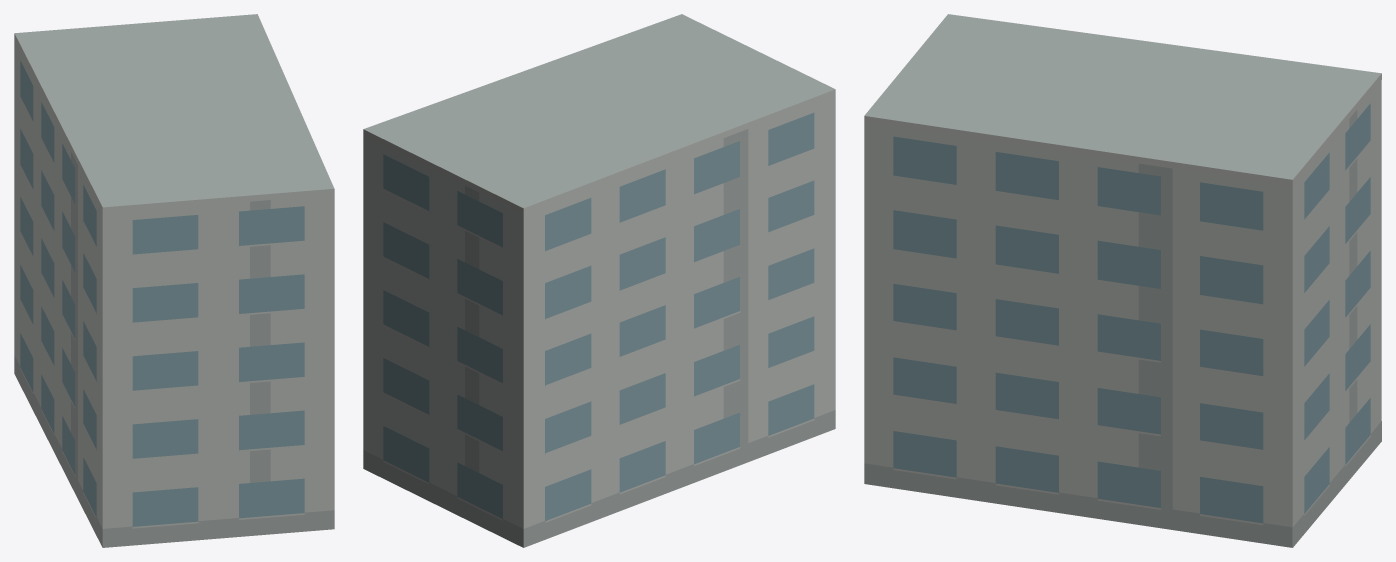
File: survey-upis-32882613.glb
3 renders of one model, left to right at view 1: azimuth 30°, elevation 25°; view 2: azimuth 150°, elevation 25°; view 3: azimuth 270°, elevation 25°, orthographic. The views are drawn at different scales.
Parts seen in each view (by area): view 1: survey-upis-32882613.tmp; view 2: survey-upis-32882613.tmp; view 3: survey-upis-32882613.tmp.
Boxes of the visible parts, x1,y1,x2,y2 form: survey-upis-32882613.tmp: [14, 14, 334, 547]; survey-upis-32882613.tmp: [363, 14, 835, 547]; survey-upis-32882613.tmp: [864, 14, 1381, 547].
Size of the model in its own units: 13.05 by 13.5 by 17.21.
